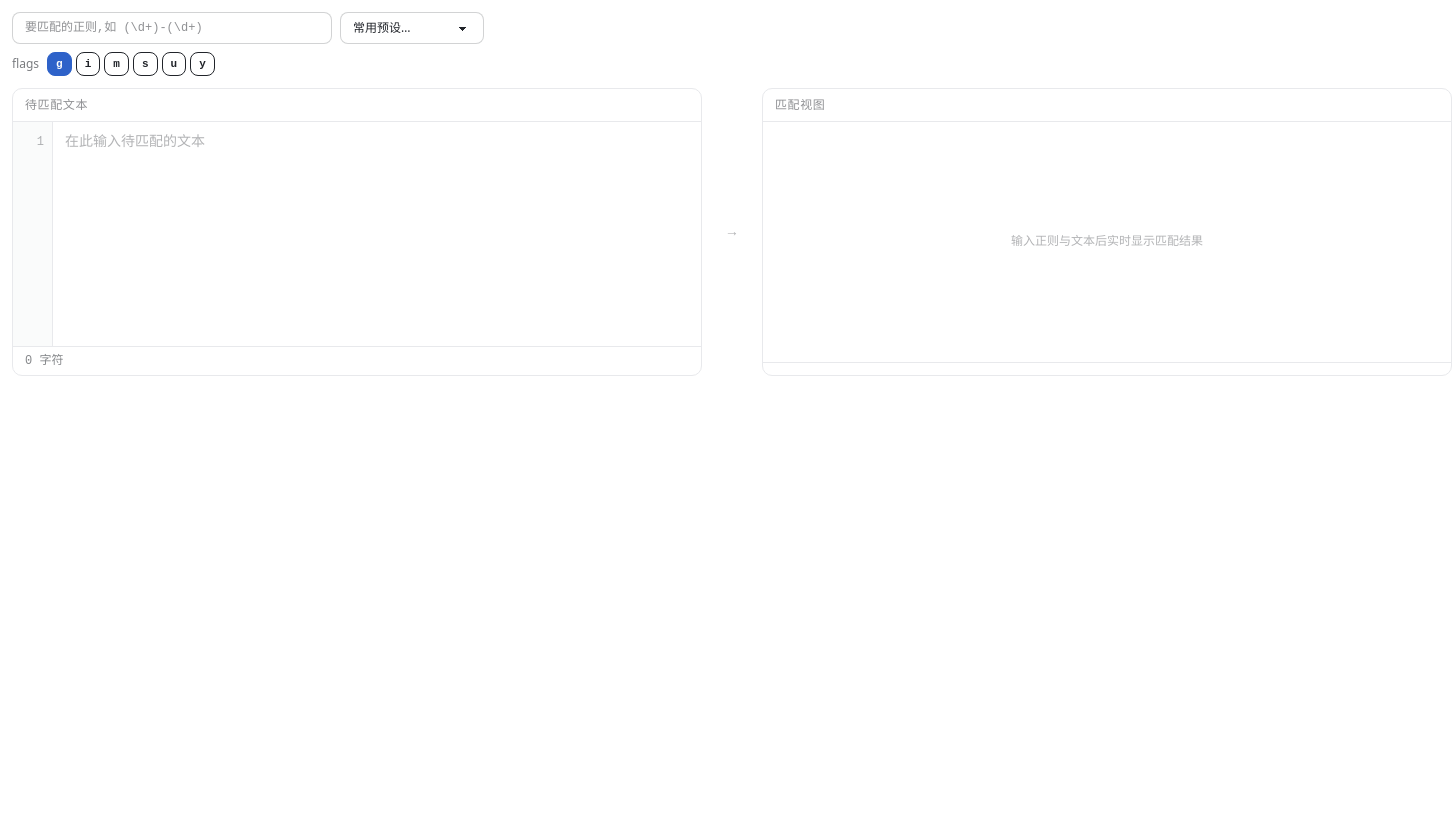
RegexMatch 重做(FE4):核心实时壳 › 关闭 g 只呈现首个匹配(整体/表格/计数一致)
Type "\\d+" into the field with placeholder "要匹配的正则,如 (\\d+)-(\\d+)". click: (172, 28)
box: top-left (12, 12), bottom-right (332, 44)
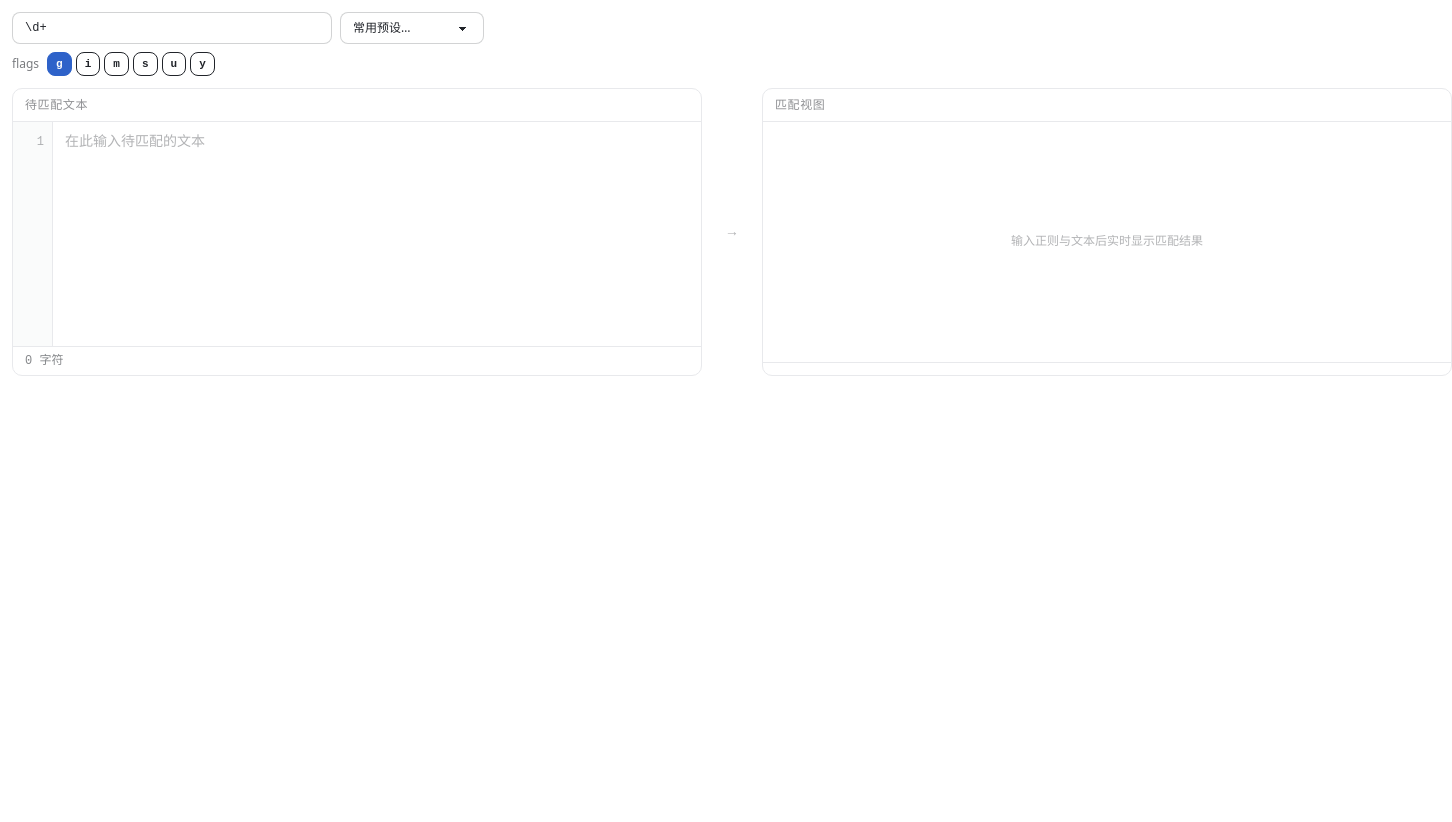
Type "x11 y22 z33" into the text box with placeholder "在此输入待匹配的文本". click: (377, 234)
box: top-left (53, 122), bottom-right (701, 346)
Wait 150 ms
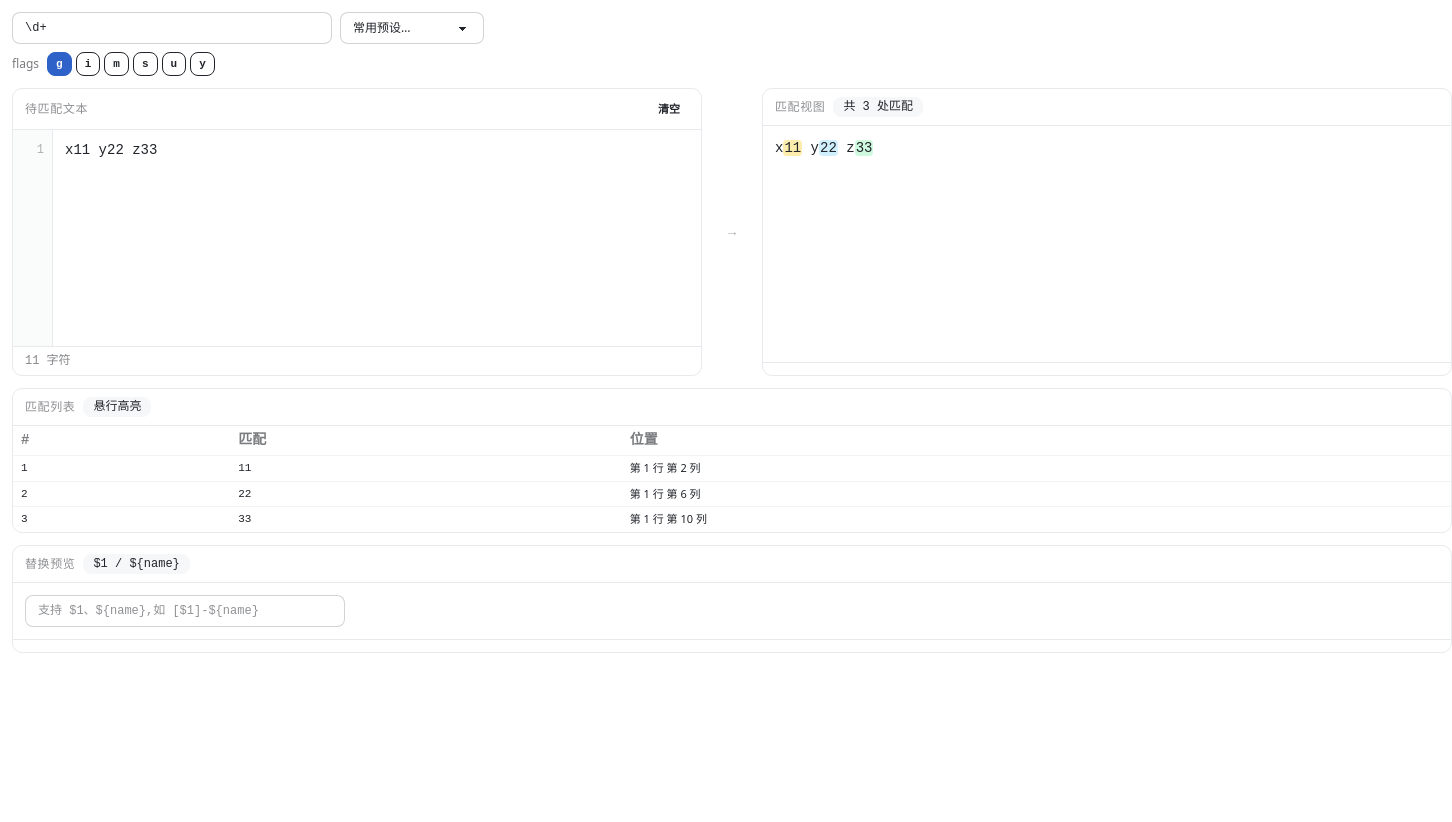
Result: the text "共 3 处匹配" is shown at top-left (833, 97), bottom-right (923, 117)
Click the button "g". click: (59, 64)
box: top-left (47, 52), bottom-right (72, 76)
Wait 150 ms
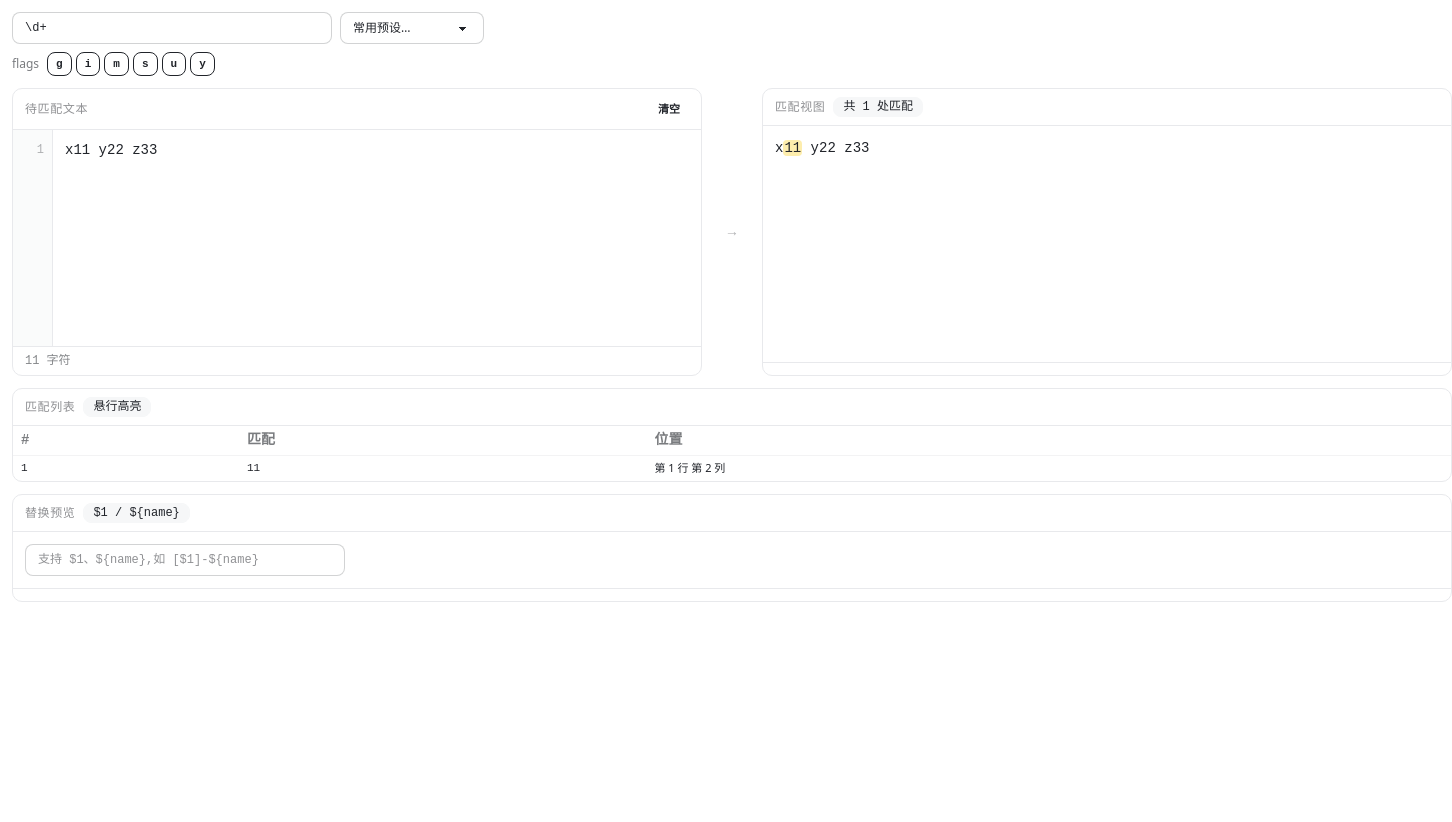
Result: the row with test id "match-row-" shows "11" at top-left (247, 462), bottom-right (260, 474)
Result: the text "共 1 处匹配" is shown at top-left (833, 97), bottom-right (923, 117)
